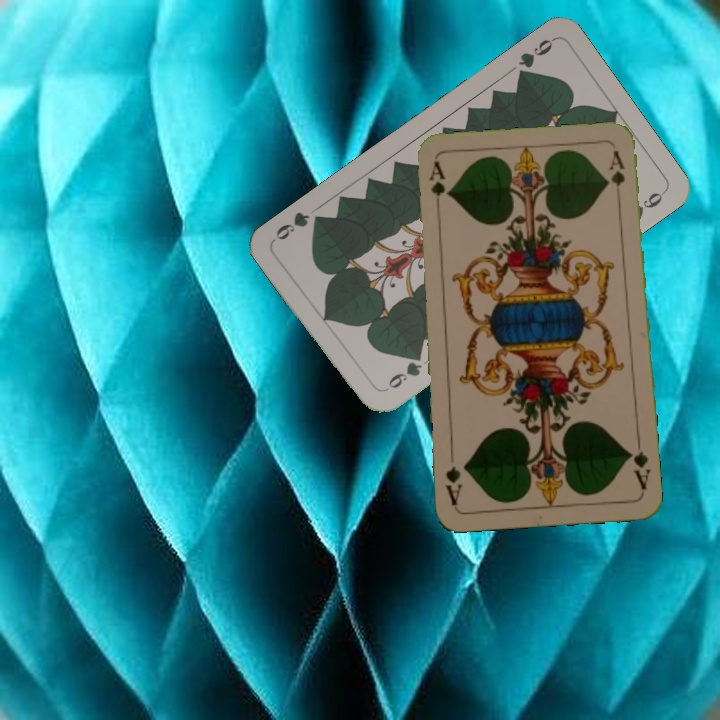G9: (378, 349, 425, 395), (513, 34, 557, 83)
GA: (624, 435, 652, 492), (425, 157, 448, 217)
